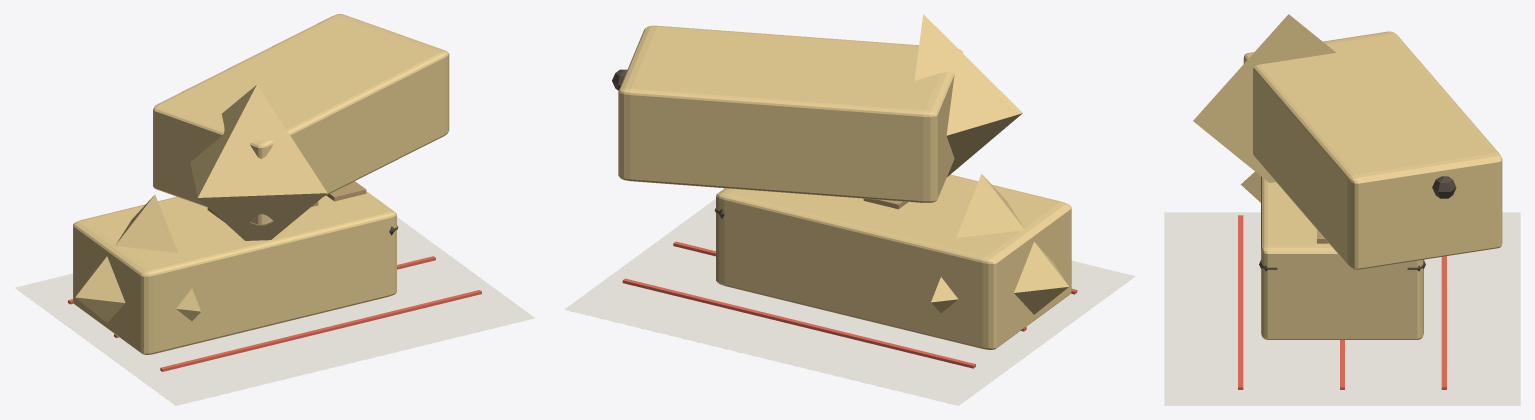
File: taiyaki.glb
3 renders of one model, left to right at view 1: azimuth 30°, elevation 25°; view 2: azimuth 150°, elevation 25°; view 3: azimuth 270°, elevation 25°, orthographic. The views are drawn at different scales.
Parts seen in each view (by area): view 1: taiyaki; view 2: taiyaki; view 3: taiyaki.
Part boxes in pixels (x1,y1,x2,y2): taiyaki: (15,14,534,405); taiyaki: (564,14,1135,405); taiyaki: (1164,14,1520,405).
Size of the model in its own units: 0.4755 by 0.33 by 0.35.
